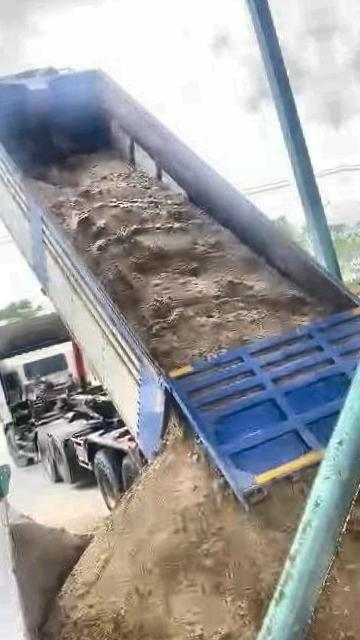sand: (31, 152, 324, 370), (45, 428, 311, 640), (290, 441, 360, 640), (12, 518, 89, 630)
